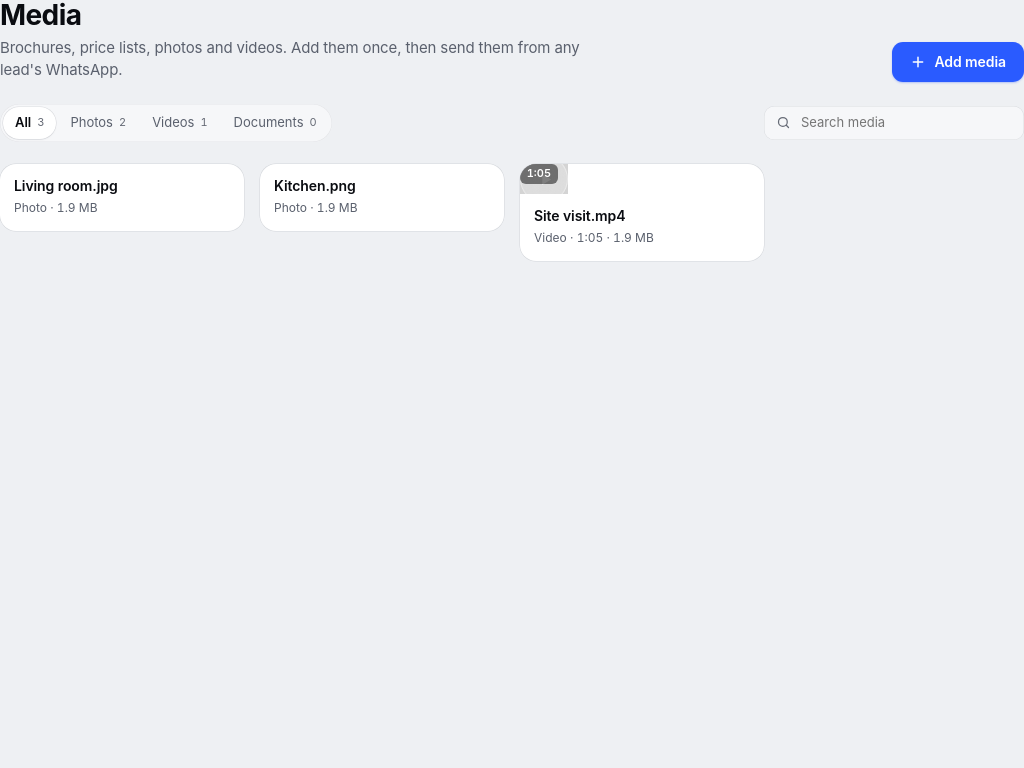
LUME's own viewer (plan 2026-10-20-media-tab, Task 7) › the arrows keep working when focus has fallen out of the viewer (a control that held it went away)
Step 1. Click the button "Living room.jpg Photo · 1.9 MB" → (122, 197), box [0,164,244,230]
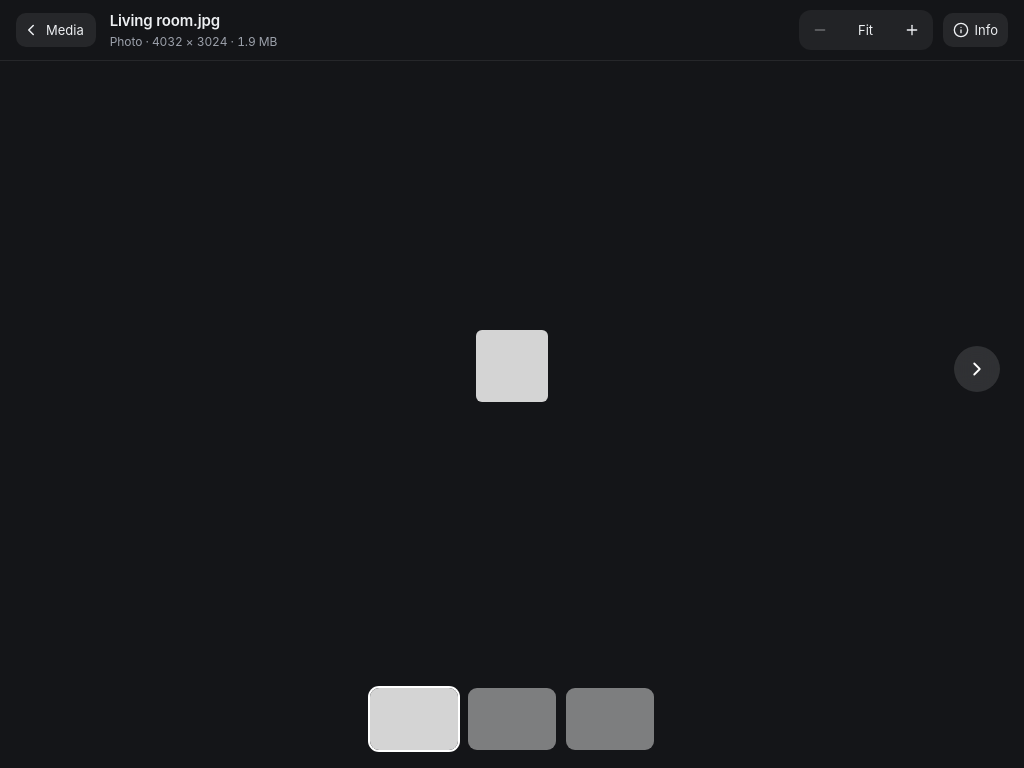
Step 2. Press Arrowright
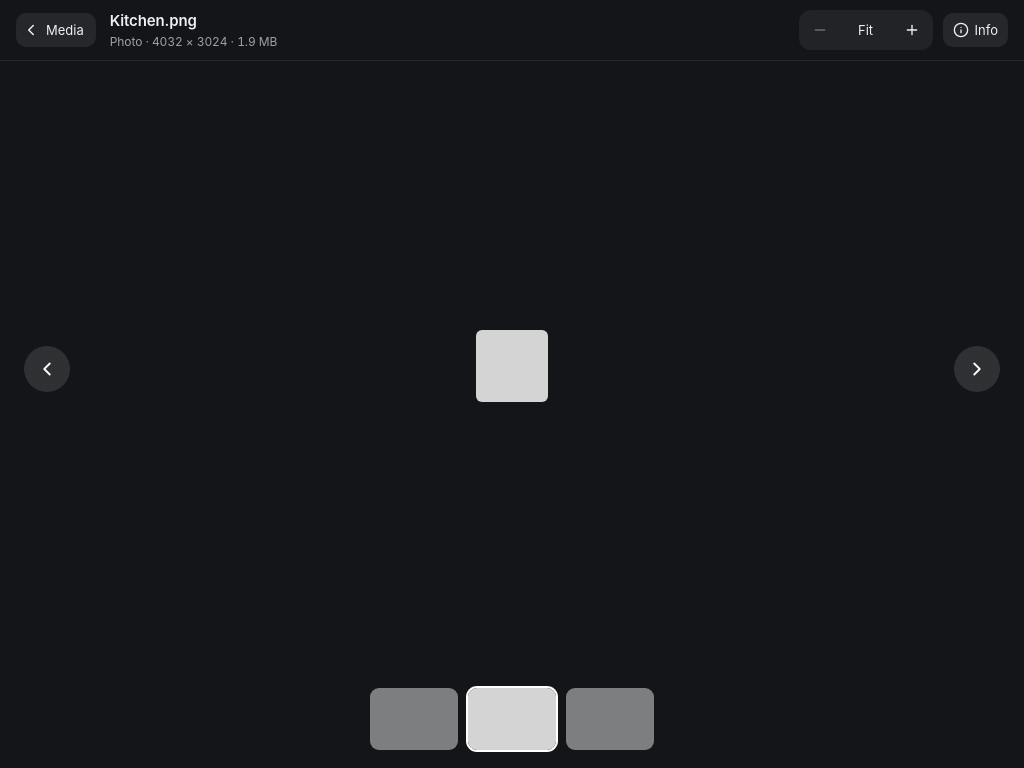
Step 3. Type keys "i"
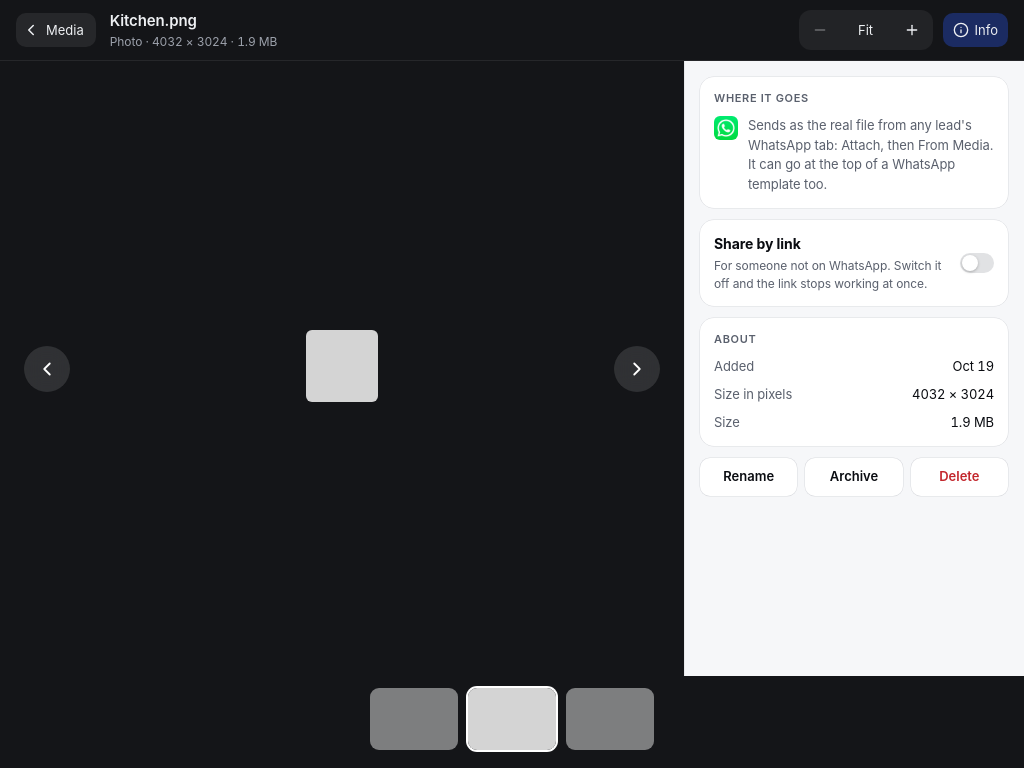
Now the element named "Info" is shown, box [684,61,1023,676]
